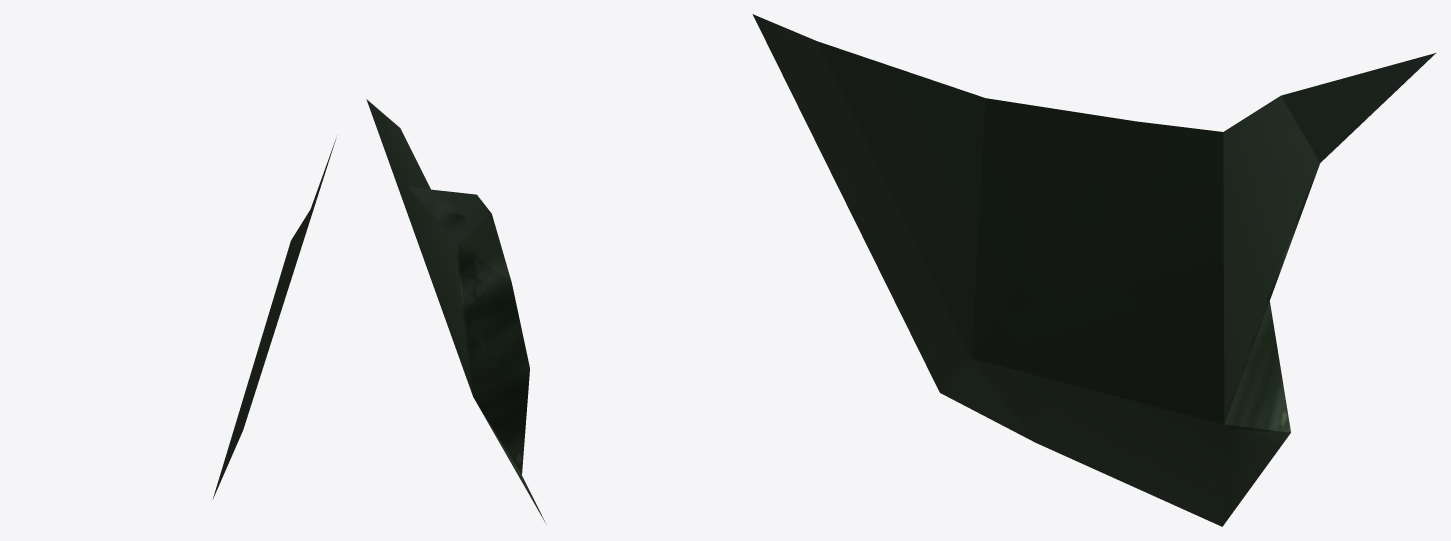
The picture shows the model from 3 angles, left to right: view 1: azimuth 30°, elevation 25°; view 2: azimuth 150°, elevation 25°; view 3: azimuth 270°, elevation 25°; orthographic projection. The views are drawn at different scales.
Size of the model in its own units: 0.6709 by 1.36 by 1.64.
Materials: 1 (1 with a texture image).
